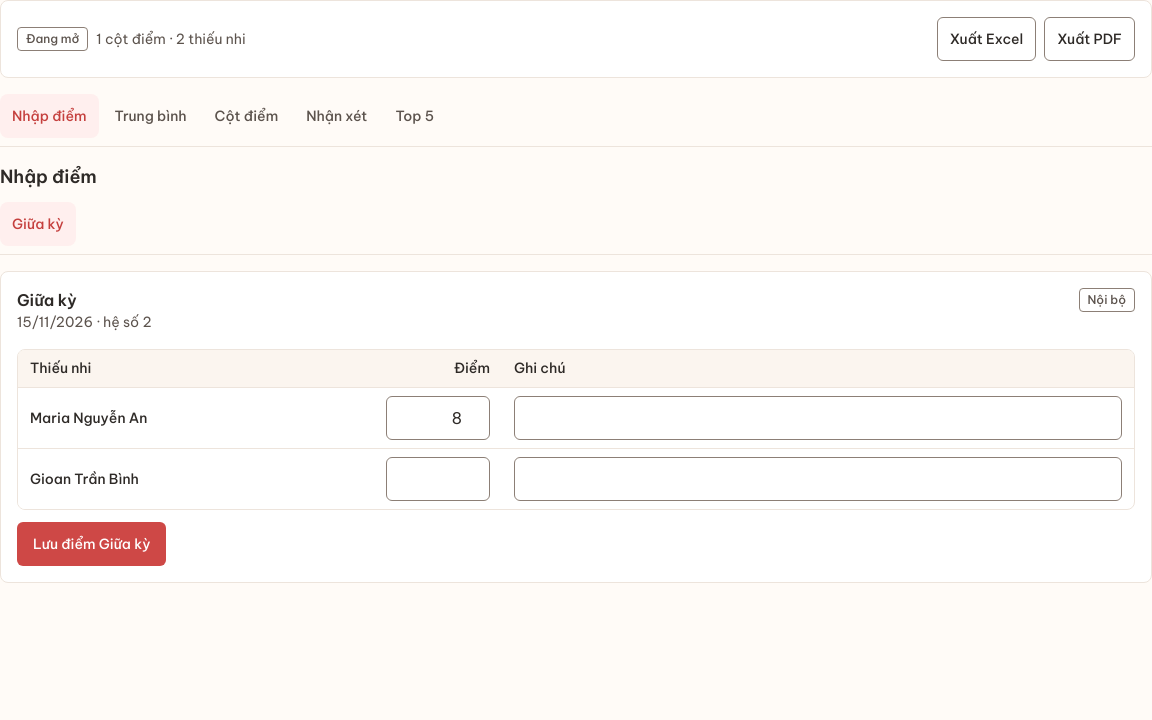
Test: gradebook editor › AC-09-01 — hệ số gợi ý lấy từ cấu hình năm học, không phải số cố định trong mã
Click the button "Cột điểm": (246, 116) [203,94,290,138]
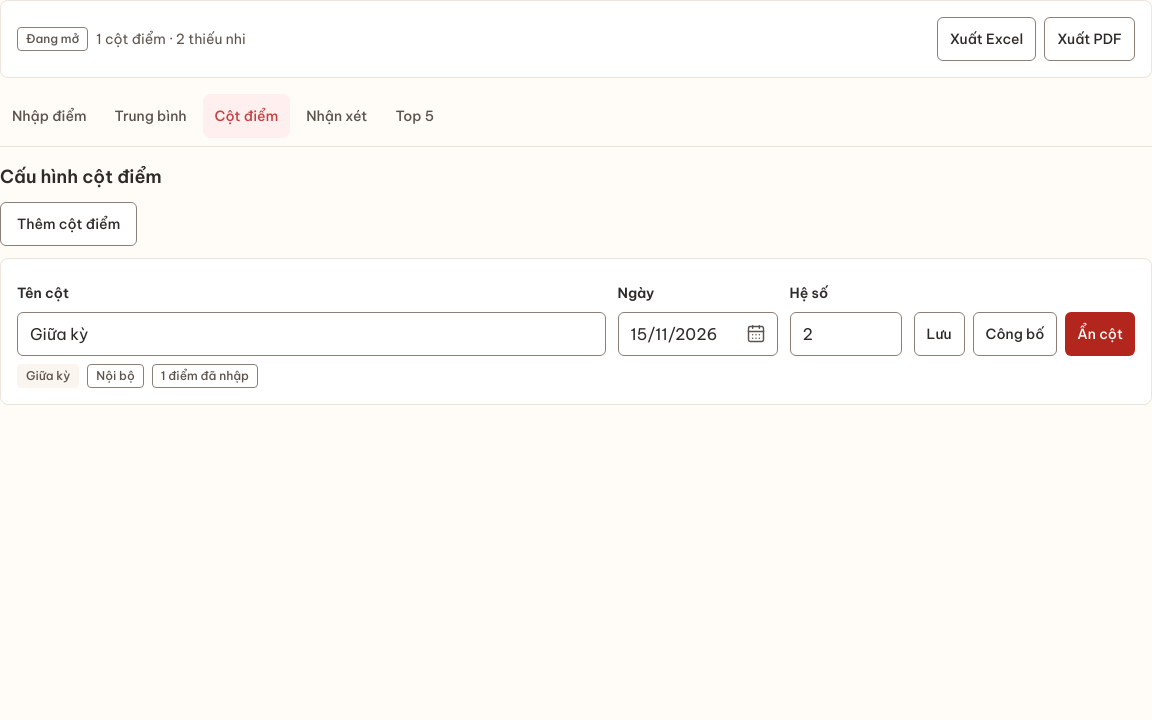
Click the button "Thêm cột điểm": (69, 224) [0,202,137,246]
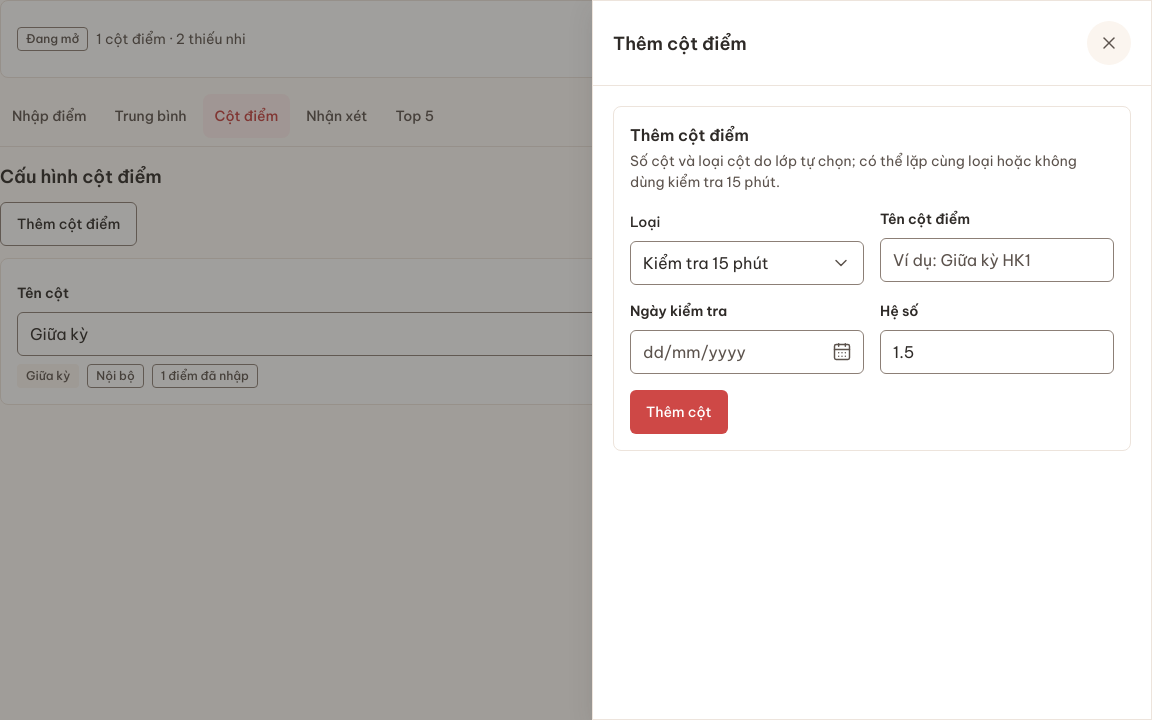
Now the number field with id "new-assessment-weight-quiz_15m" holds "1.5", box [880,330,1114,374]
Select "Giữa kỳ" in the dropdown labelled "Loại": (747, 247) [630,209,864,285]
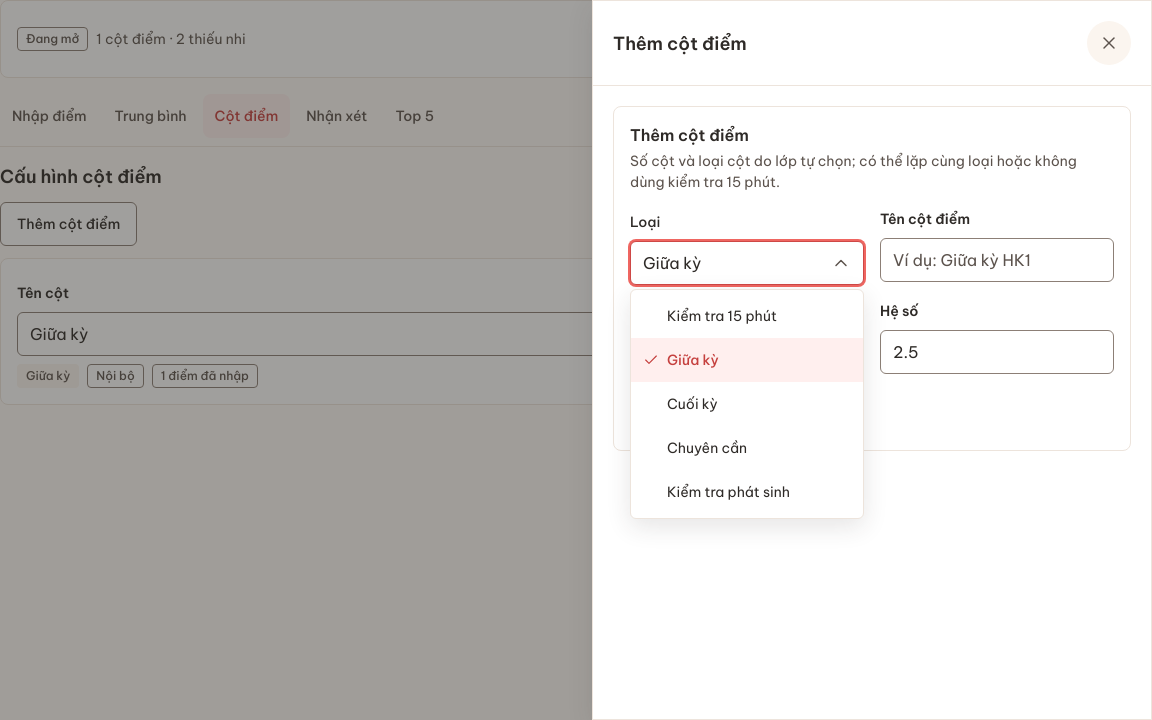
Now the number field with id "new-assessment-weight-midterm" holds "2.5", box [880,330,1114,374]
